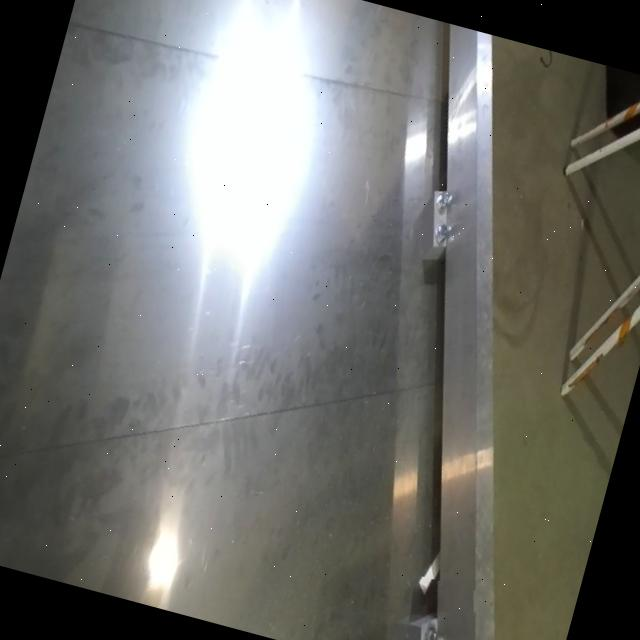blocks: (402, 168, 478, 290), (383, 572, 480, 640)
